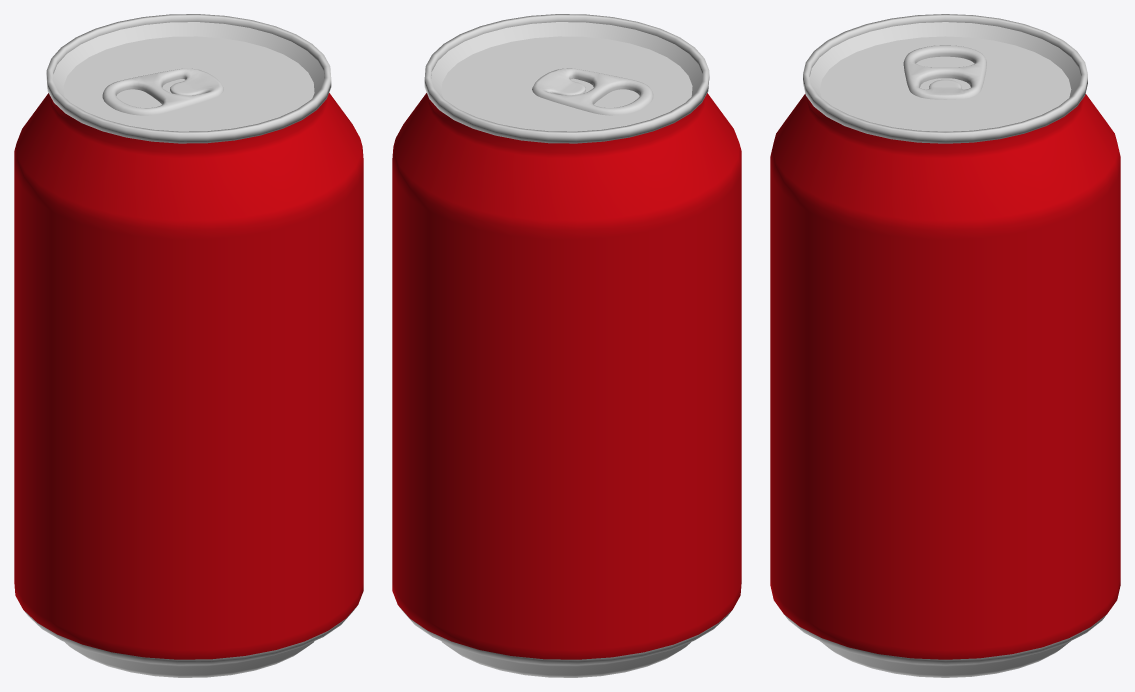
The model's file is soda_closed.fbx.
3 renders of one model, left to right at view 1: azimuth 30°, elevation 25°; view 2: azimuth 150°, elevation 25°; view 3: azimuth 270°, elevation 25°, orthographic.
Parts seen in each view (by area): view 1: Cylinder; view 2: Cylinder; view 3: Cylinder.
Part boxes in pixels (box(x1,y1,x2,y2)): Cylinder: box(14, 14, 363, 677); Cylinder: box(392, 14, 741, 677); Cylinder: box(770, 14, 1120, 677).
Bounding box in the file's own units: 200 × 345 × 200.
